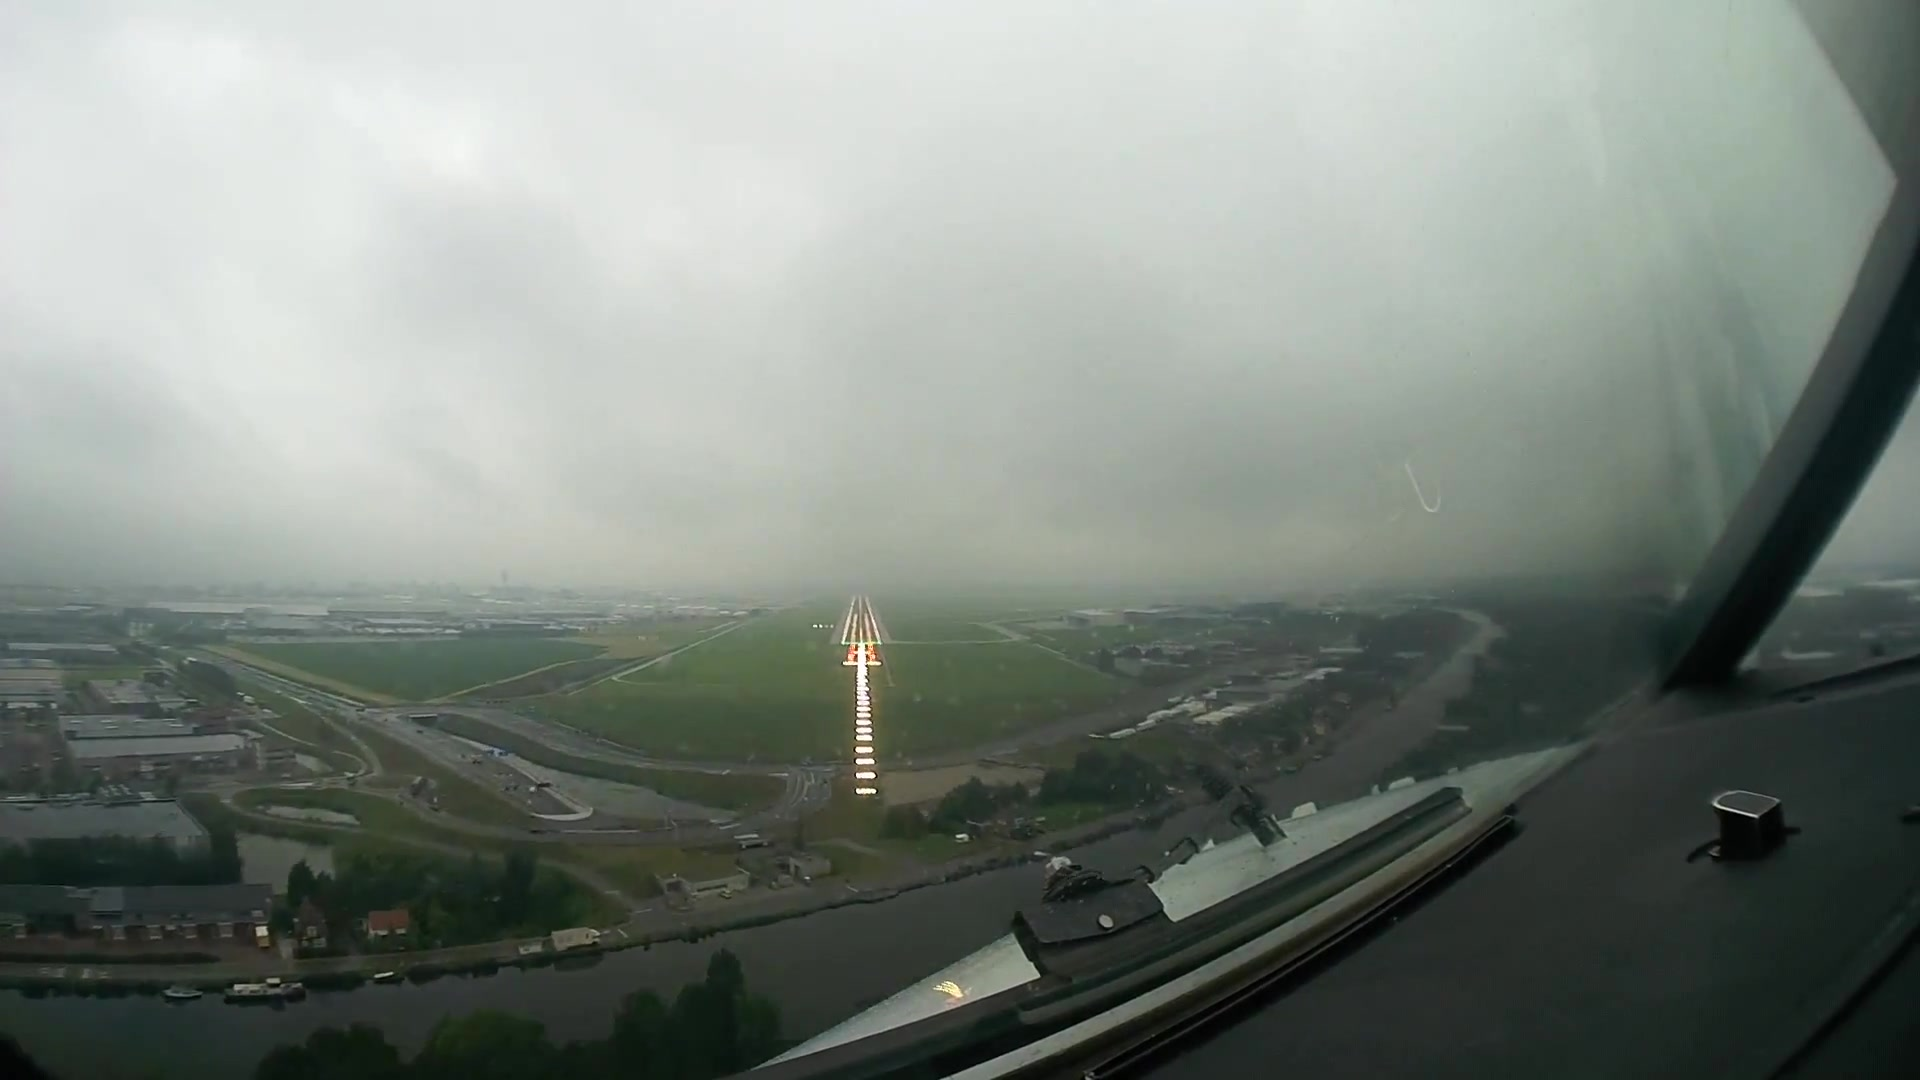runway: (837, 589, 884, 647)
